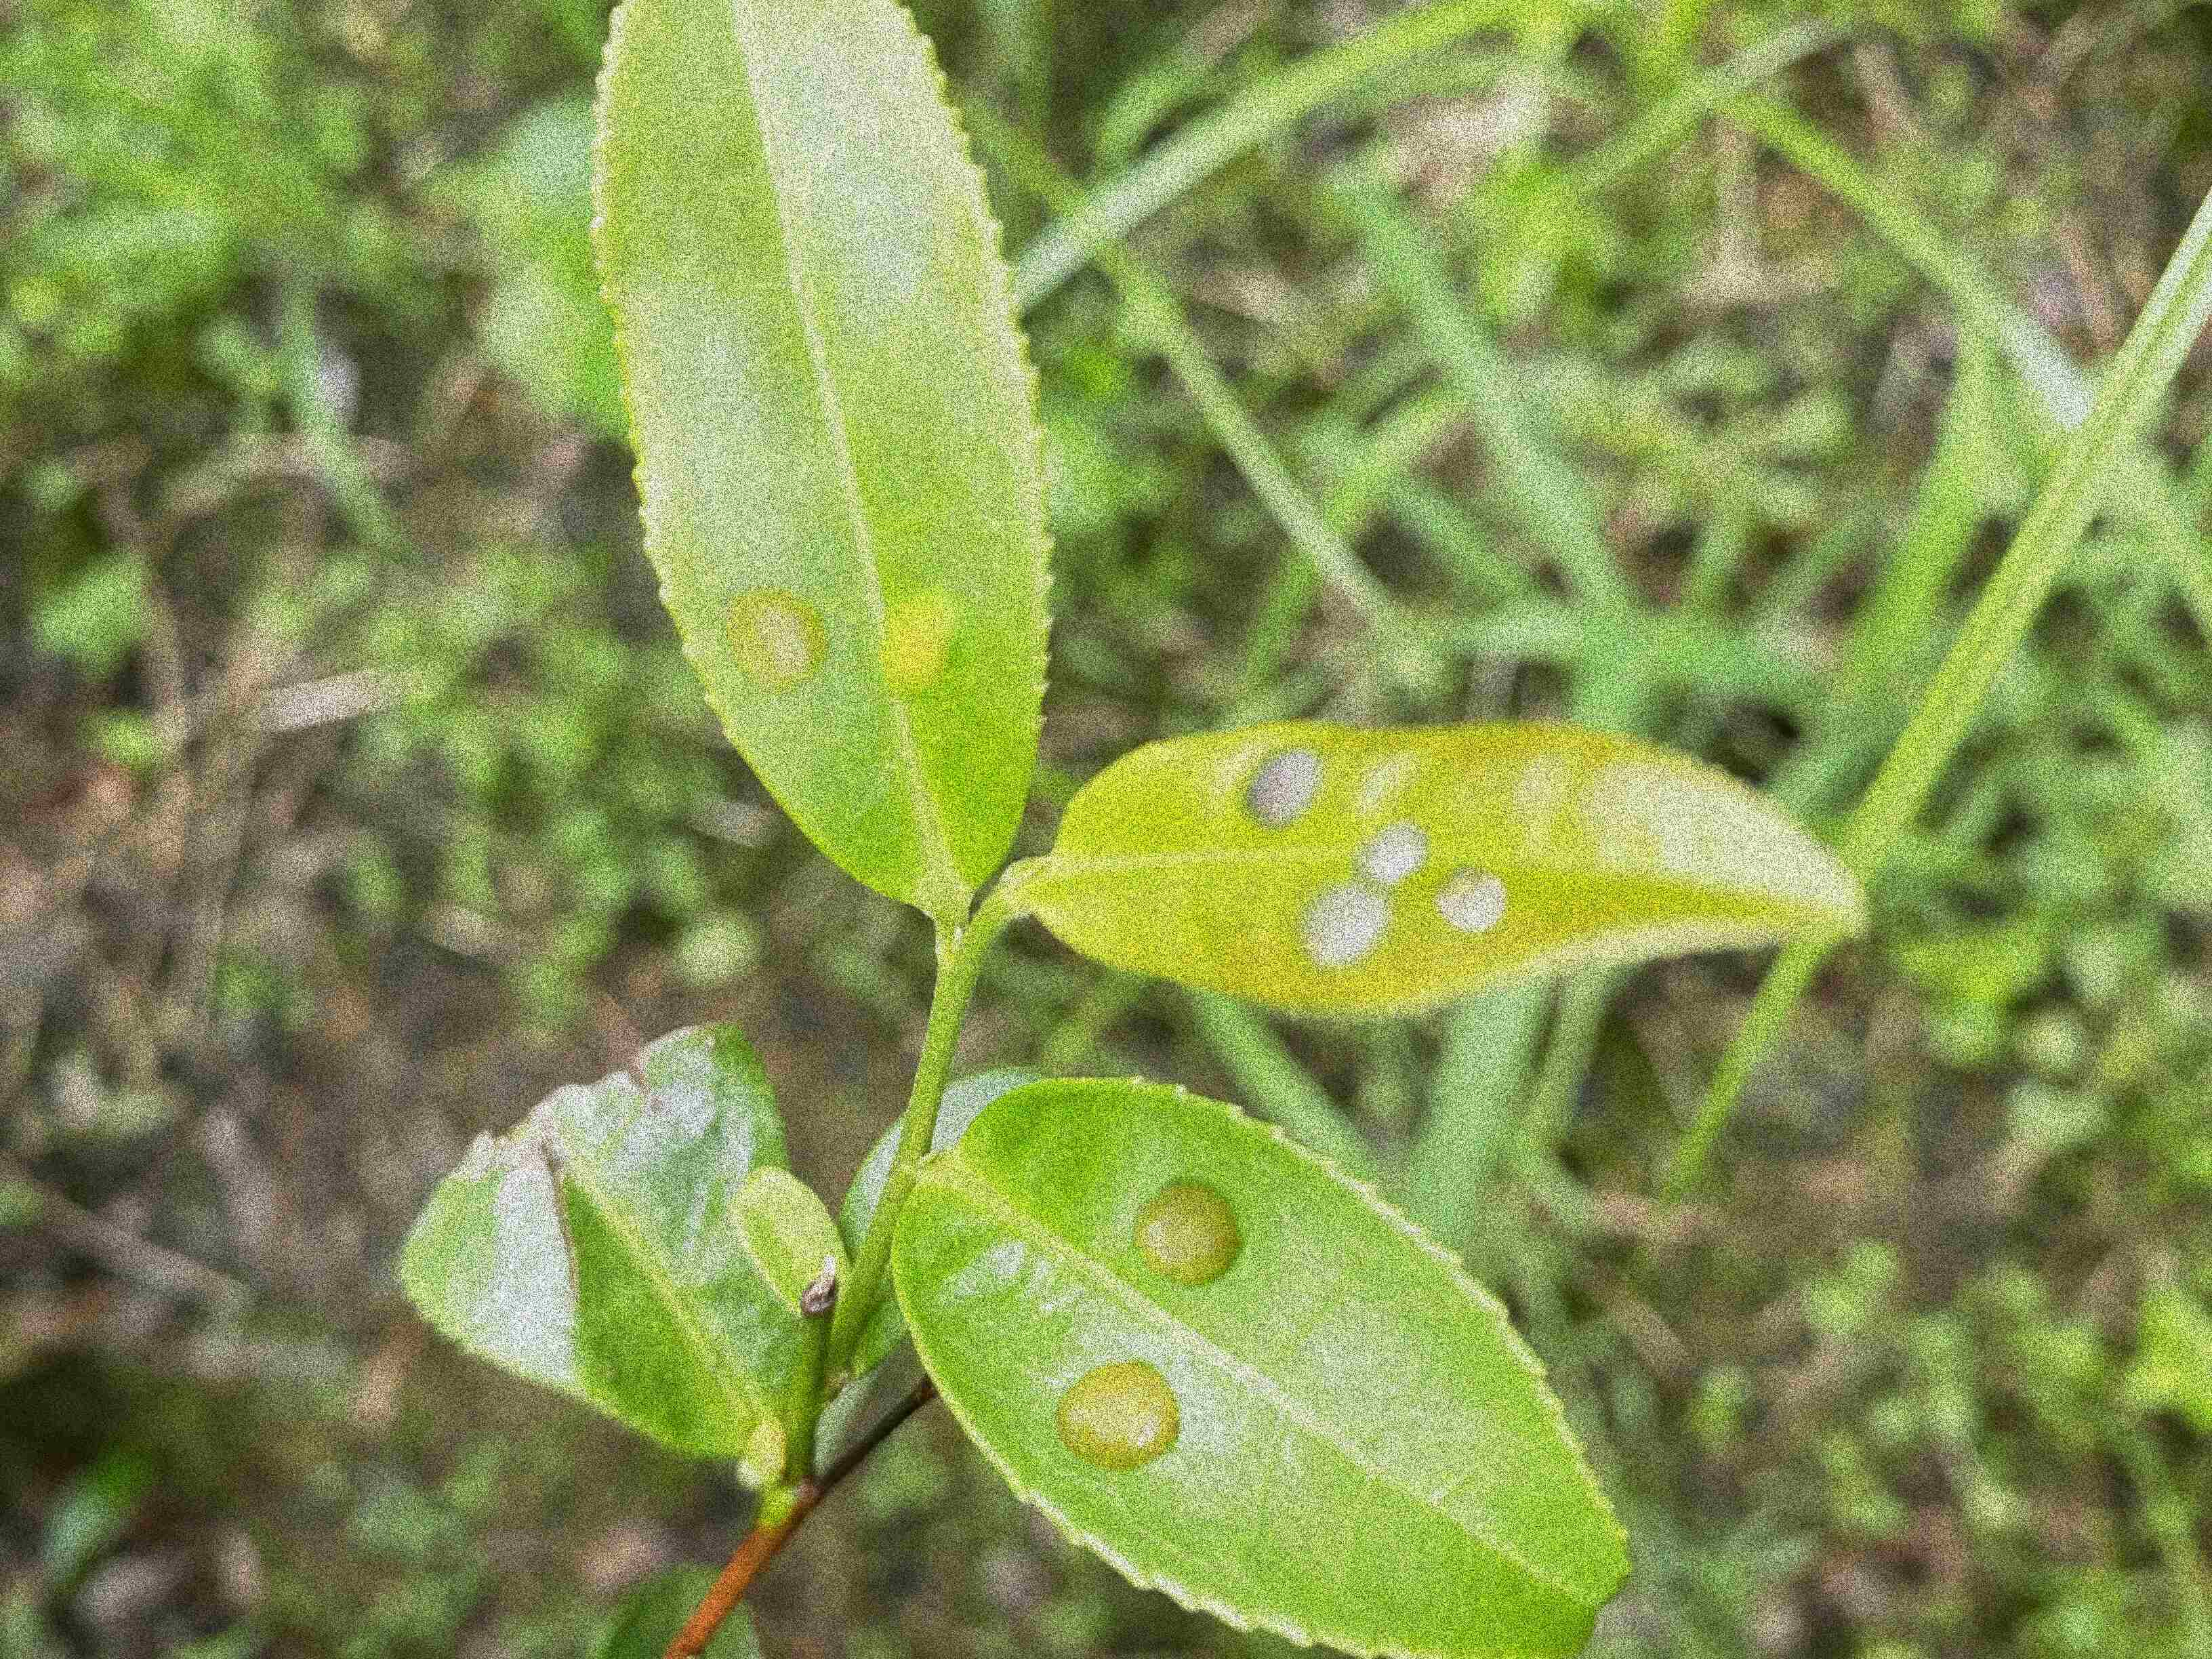chabing_high: (885, 1079, 1639, 1654), (583, 3, 1055, 910), (1017, 714, 1874, 1025)
chihuo_high: (388, 1021, 801, 1459)
